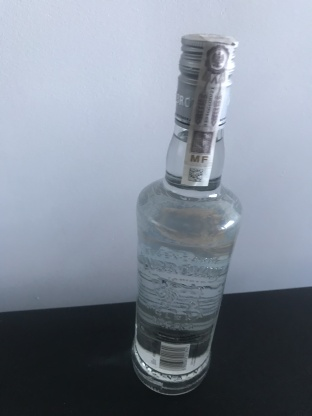nakretka: (172, 30, 240, 134)
